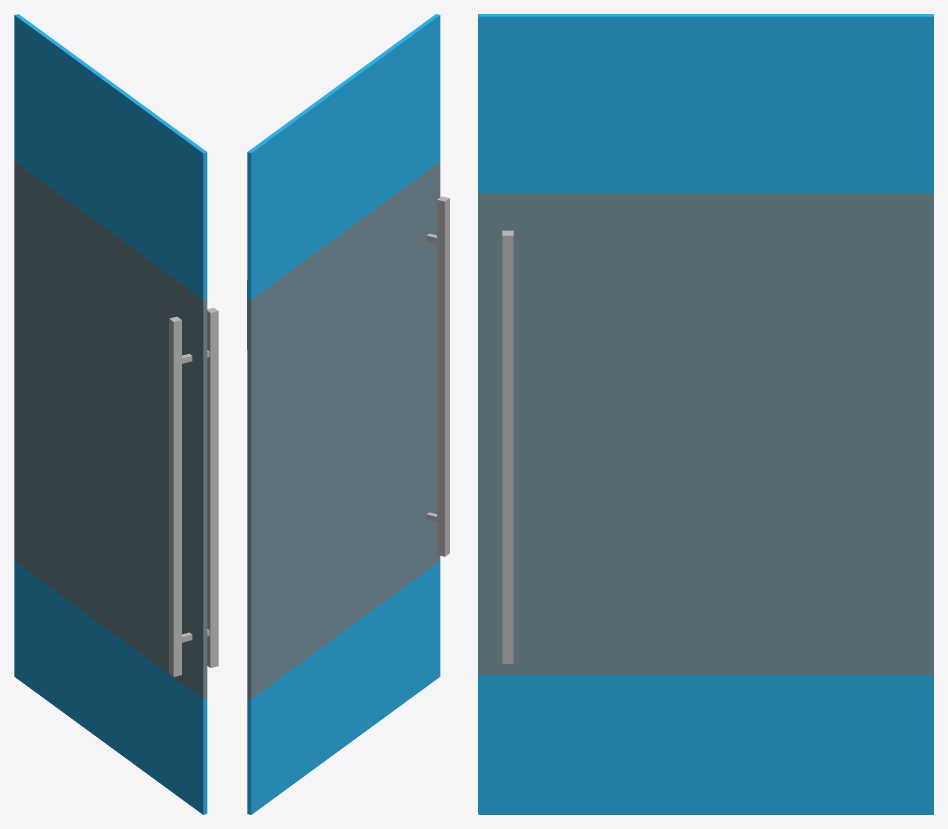
File: sm_boli6.FBX
3 views of the same model, side by side, from view 1: azimuth 30°, elevation 25°; view 2: azimuth 150°, elevation 25°; view 3: azimuth 270°, elevation 25° (orthographic). The views are drawn at different scales.
Visible parts, largest first — view 1: Object43089; view 2: Object43089; view 3: Object43089.
Part boxes in pixels (x1=…): Object43089: x1=14, y1=14, x2=218, y2=814; Object43089: x1=247, y1=14, x2=449, y2=814; Object43089: x1=478, y1=14, x2=933, y2=814.
Size of the model in its own units: 17.32 by 245 by 127.
